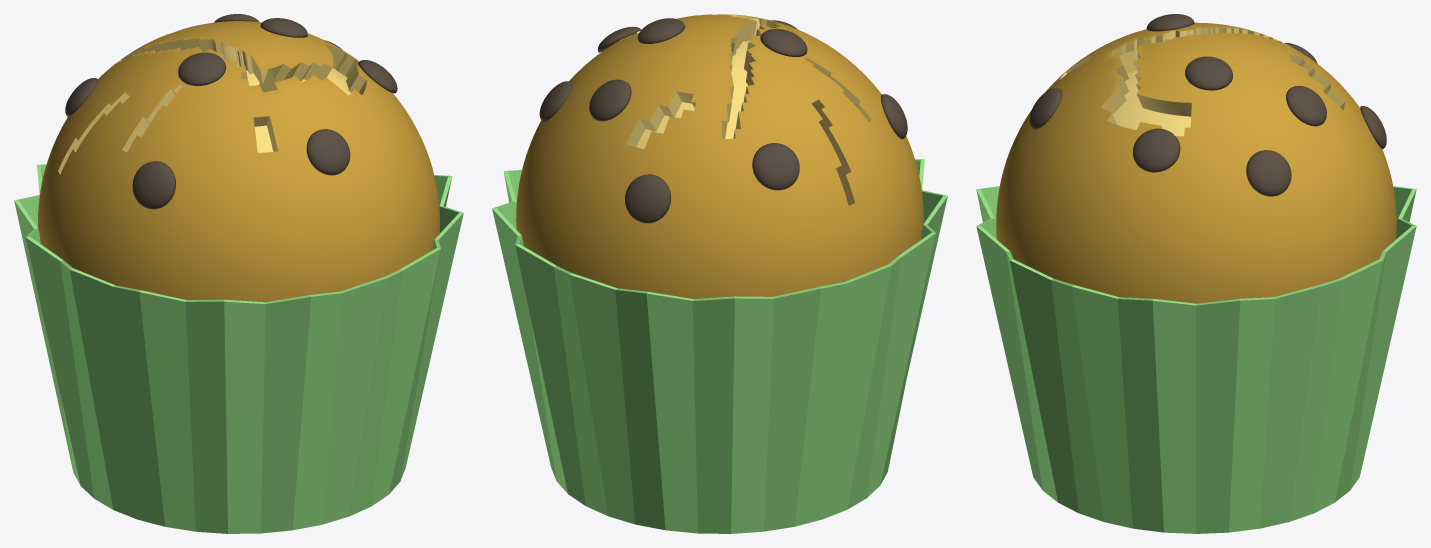
Rendered from Muffin 1.fbx.
3 renders of one model, left to right at view 1: azimuth 30°, elevation 25°; view 2: azimuth 150°, elevation 25°; view 3: azimuth 270°, elevation 25°, orthographic.
Parts seen in each view (by area): view 1: Sphere; view 2: Sphere; view 3: Sphere.
Part boxes in pixels (left/top/right/bottom): Sphere: left=14, top=14, right=463, bottom=533; Sphere: left=492, top=14, right=947, bottom=533; Sphere: left=976, top=14, right=1416, bottom=533.
Bounding box in the file's own units: 196 × 209 × 196.
